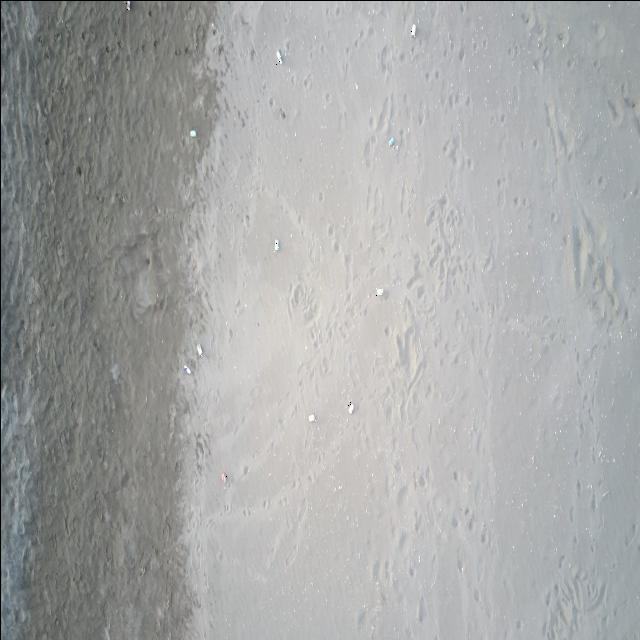Garbage: (196, 343, 203, 356), (387, 136, 395, 147), (220, 472, 227, 484), (276, 49, 281, 64), (409, 24, 415, 36), (183, 364, 191, 373), (273, 239, 279, 251), (375, 287, 383, 296), (308, 413, 315, 422), (347, 400, 352, 412), (190, 128, 196, 136), (124, 0, 129, 9)
